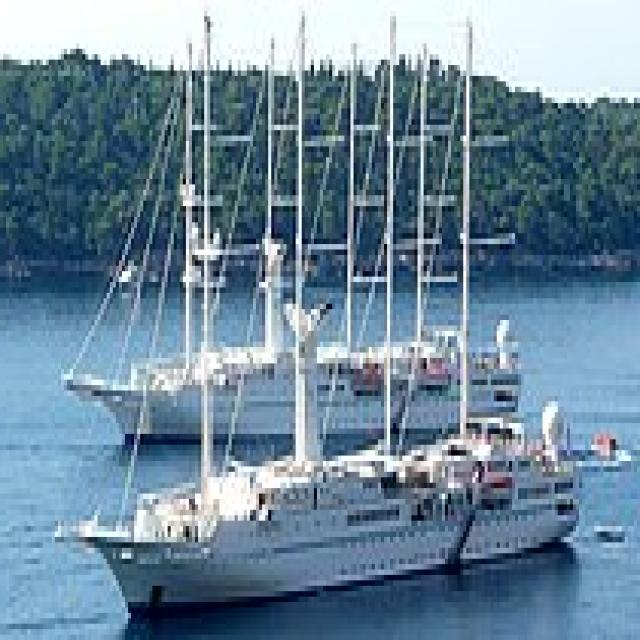Cruise: (52, 277, 585, 618), (58, 157, 530, 445)
